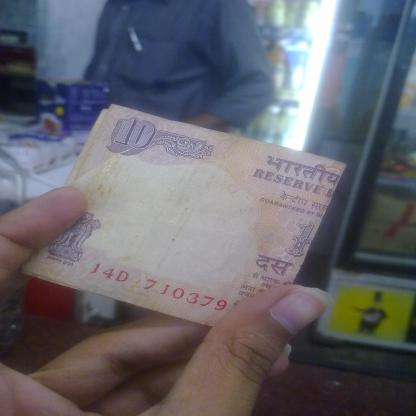Old10Front: (23, 102, 350, 328)
